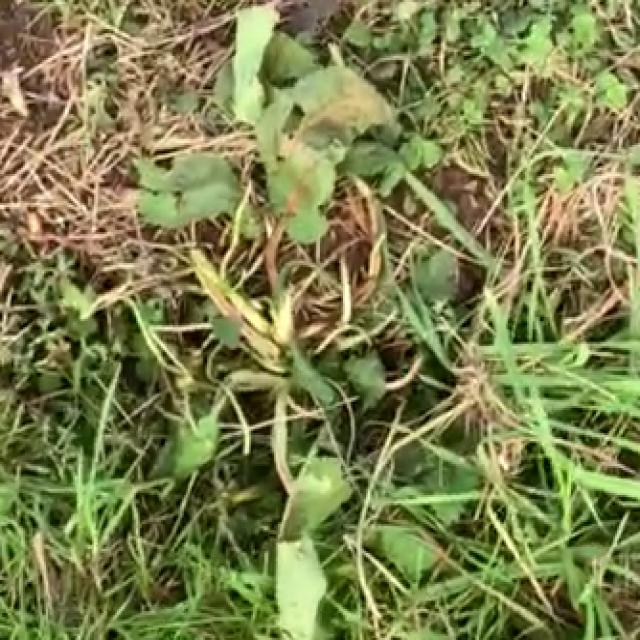organic waste: (115, 17, 487, 580)
